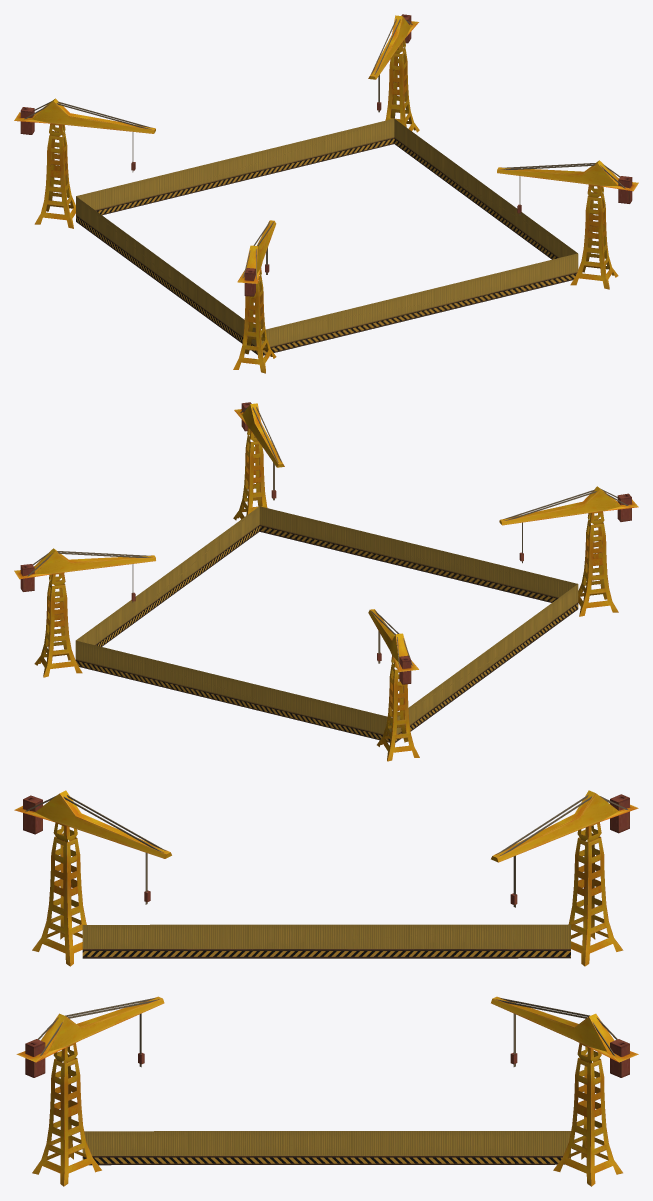
File: KFQ_jianzao01.FBX
3 renders of one model, top to bottom at view 1: azimuth 30°, elevation 25°; view 2: azimuth 150°, elevation 25°; view 3: azimuth 270°, elevation 25°, orthographic. The views are drawn at different scales.
Visible parts, largest first — view 1: KFQ_jianzao01_1, KFQ_jianzao01_4, KFQ_jianzao01_2, KFQ_jianzao01_5, KFQ_jianzao01_3; view 2: KFQ_jianzao01_1, KFQ_jianzao01_3, KFQ_jianzao01_5, KFQ_jianzao01_4, KFQ_jianzao01_2; view 3: KFQ_jianzao01_1, KFQ_jianzao01_5, KFQ_jianzao01_2, KFQ_jianzao01_3, KFQ_jianzao01_4.
Boxes of the visible parts, x1,y1,x2,y2 form: KFQ_jianzao01_1: [34, 39, 618, 373]; KFQ_jianzao01_4: [14, 98, 155, 172]; KFQ_jianzao01_2: [497, 160, 638, 215]; KFQ_jianzao01_5: [237, 220, 276, 296]; KFQ_jianzao01_3: [368, 14, 418, 112]; KFQ_jianzao01_1: [34, 427, 618, 761]; KFQ_jianzao01_3: [14, 548, 155, 603]; KFQ_jianzao01_5: [499, 486, 638, 563]; KFQ_jianzao01_4: [368, 609, 418, 684]; KFQ_jianzao01_2: [234, 402, 284, 500]; KFQ_jianzao01_1: [32, 822, 623, 1186]; KFQ_jianzao01_5: [14, 790, 171, 904]; KFQ_jianzao01_2: [16, 996, 164, 1077]; KFQ_jianzao01_3: [491, 996, 638, 1077]; KFQ_jianzao01_4: [491, 790, 638, 907].
Size of the model in its own units: 8145 by 2292 by 8191.
